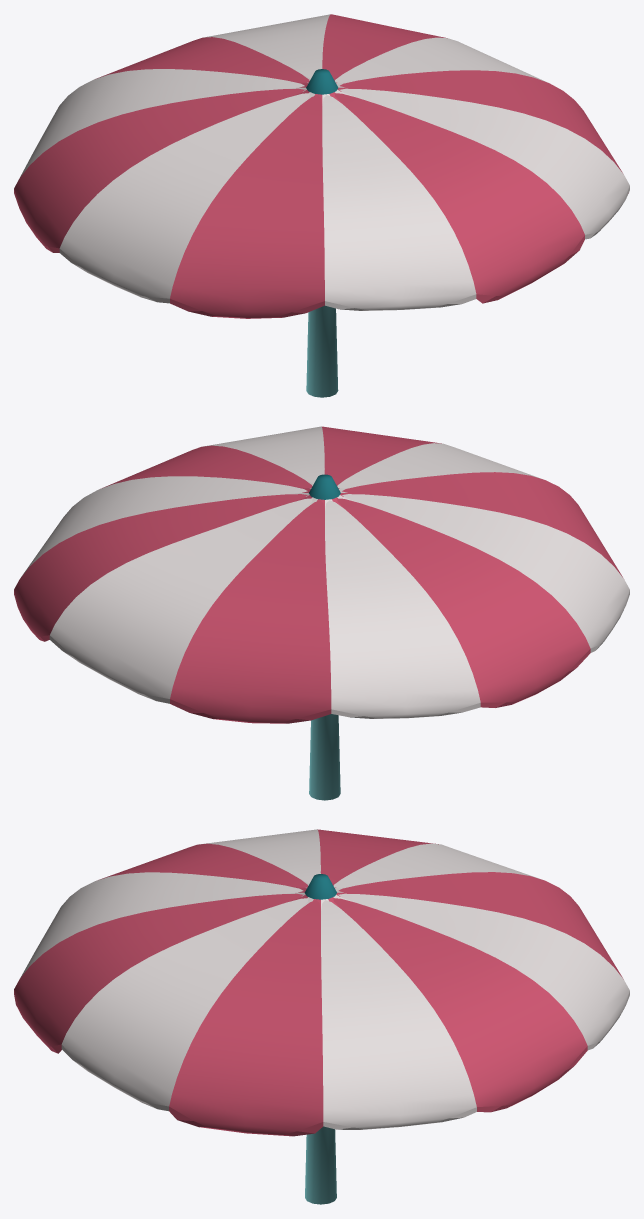
Rendered from Umbrella.fbx.
The picture shows the model from 3 angles, top to bottom: view 1: azimuth 30°, elevation 25°; view 2: azimuth 150°, elevation 25°; view 3: azimuth 270°, elevation 25°; orthographic projection.
Parts seen in each view (by area): view 1: Umbrella 1, Umbrella 2, Stand, Top; view 2: Umbrella 1, Umbrella 2, Stand, Top; view 3: Umbrella 1, Umbrella 2, Stand, Top.
Part boxes in pixels (x1=…): Umbrella 1: x1=14, y1=14, x2=628, y2=318; Umbrella 2: x1=18, y1=14, x2=629, y2=310; Stand: x1=306, y1=305, x2=338, y2=397; Top: x1=306, y1=69, x2=338, y2=94; Umbrella 1: x1=14, y1=426, x2=622, y2=723; Umbrella 2: x1=21, y1=426, x2=629, y2=718; Stand: x1=309, y1=714, x2=340, y2=800; Top: x1=309, y1=474, x2=340, y2=499; Umbrella 1: x1=14, y1=829, x2=623, y2=1136; Umbrella 2: x1=20, y1=829, x2=629, y2=1129; Stand: x1=305, y1=1126, x2=336, y2=1204; Top: x1=304, y1=874, x2=336, y2=899.
Size of the model in its own units: 232 by 133 by 231.
2 materials, 1 textured.
